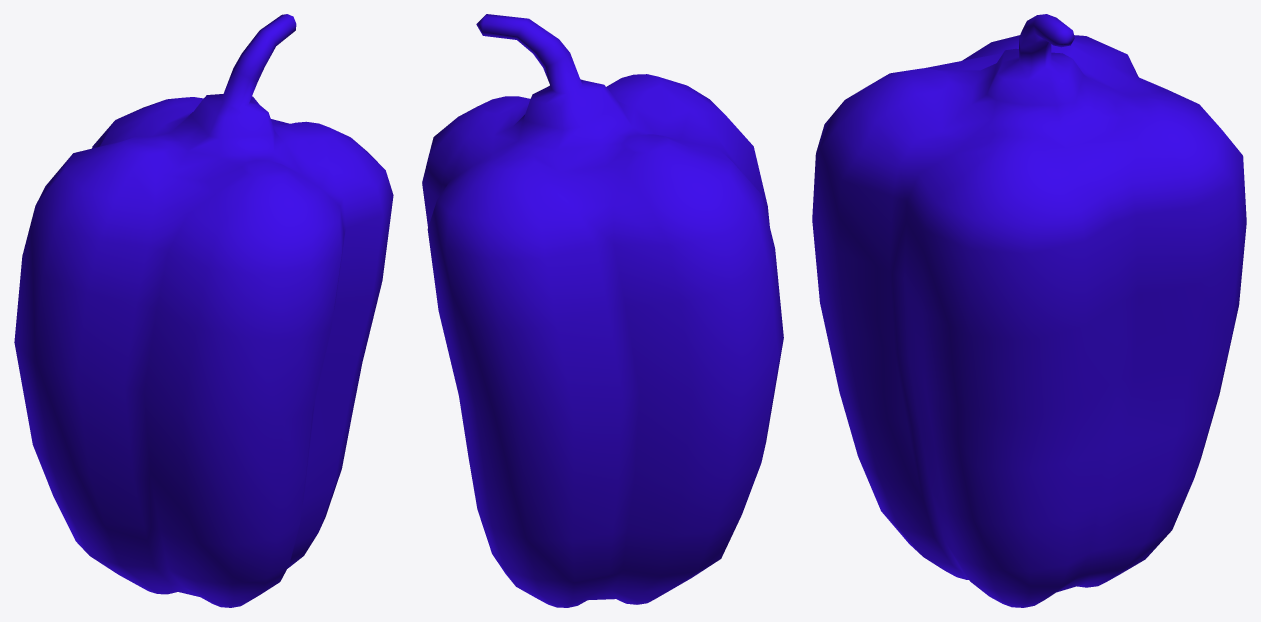
The model's file is peperone_giallo_marcio.fbx.
The picture shows the model from 3 angles, left to right: view 1: azimuth 30°, elevation 25°; view 2: azimuth 150°, elevation 25°; view 3: azimuth 270°, elevation 25°; orthographic projection. The views are drawn at different scales.
Parts seen in each view (by area): view 1: peperone_giallo_marcio; view 2: peperone_giallo_marcio; view 3: peperone_giallo_marcio.
Part boxes in pixels (left/top/right/bottom): peperone_giallo_marcio: left=14, top=14, right=393, bottom=607; peperone_giallo_marcio: left=422, top=14, right=783, bottom=607; peperone_giallo_marcio: left=812, top=14, right=1246, bottom=607.
Bounding box in the file's own units: 266 × 403 × 263.
